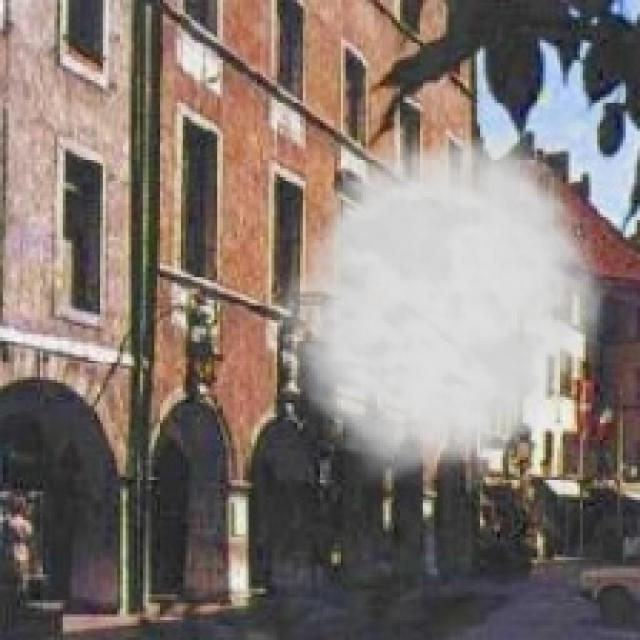Smoke: (262, 114, 618, 489)
